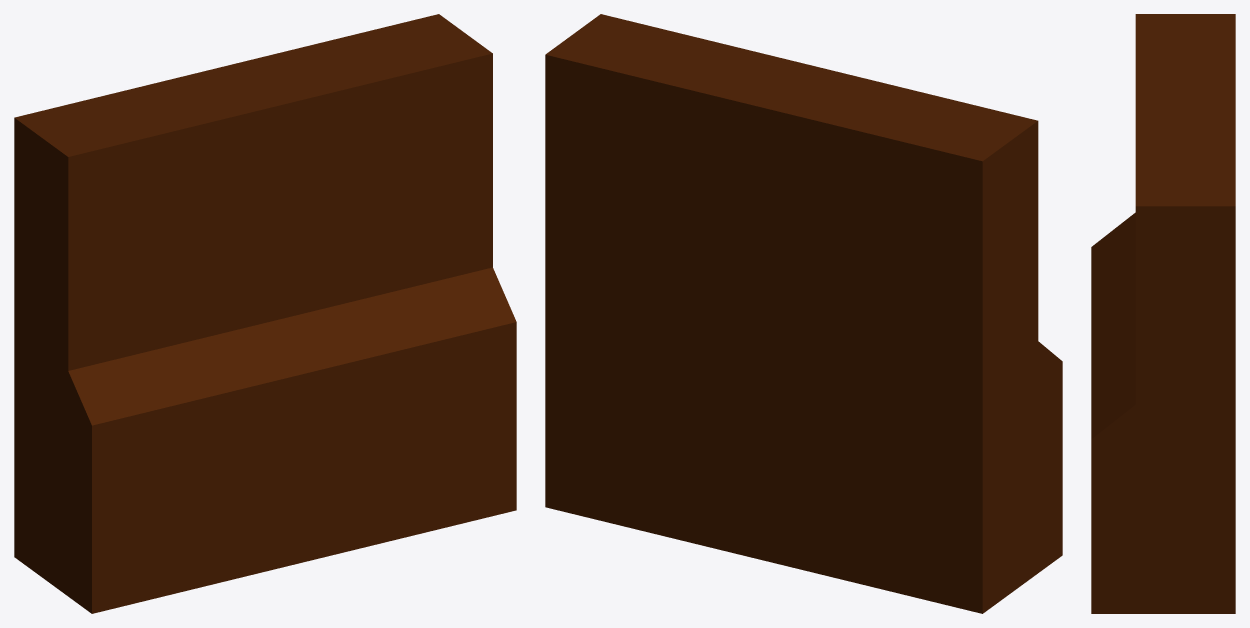
The model's file is lemari_Scene.fbx.
3 views of the same model, side by side, from view 1: azimuth 30°, elevation 25°; view 2: azimuth 150°, elevation 25°; view 3: azimuth 270°, elevation 25° (orthographic). The views are drawn at different scales.
Parts seen in each view (by area): view 1: Creadits; view 2: Creadits; view 3: Creadits.
Part boxes in pixels (x1,y1,x2,y2): Creadits: (14, 14, 516, 613); Creadits: (545, 14, 1062, 613); Creadits: (1091, 14, 1235, 613).
Size of the model in its own units: 294 by 290 by 93.01.
